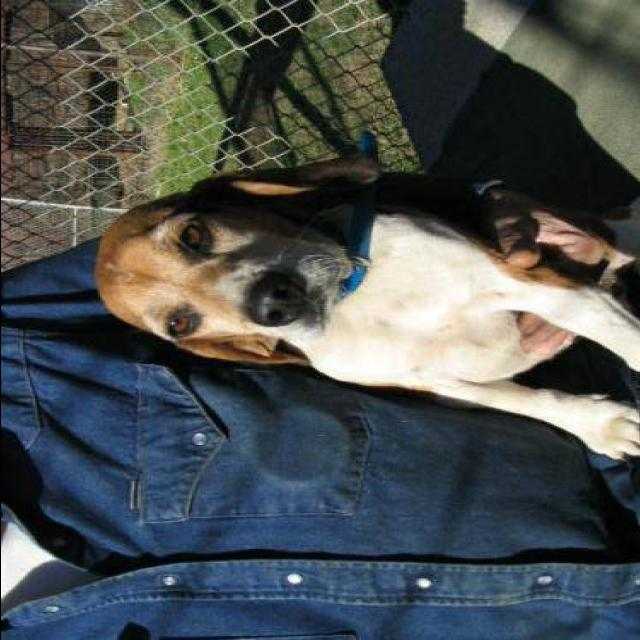dog: (73, 150, 640, 446)
